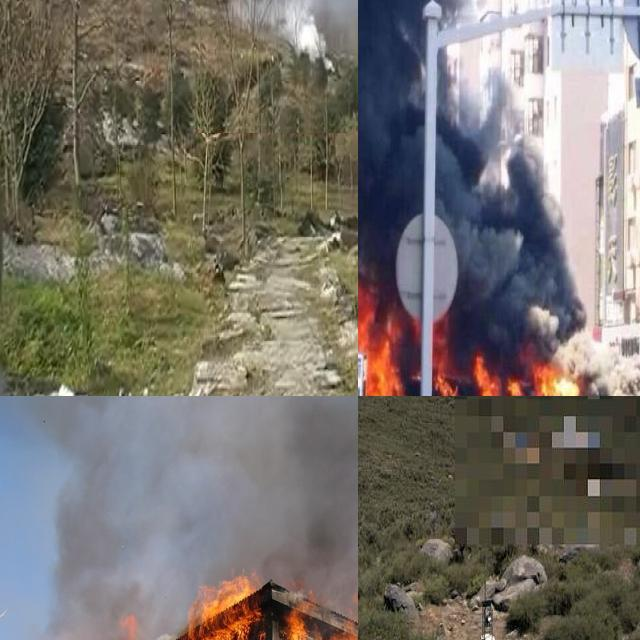fire: (358, 261, 596, 396), (0, 570, 358, 640)
smoke: (358, 0, 640, 396), (19, 396, 358, 640), (227, 0, 328, 62)
